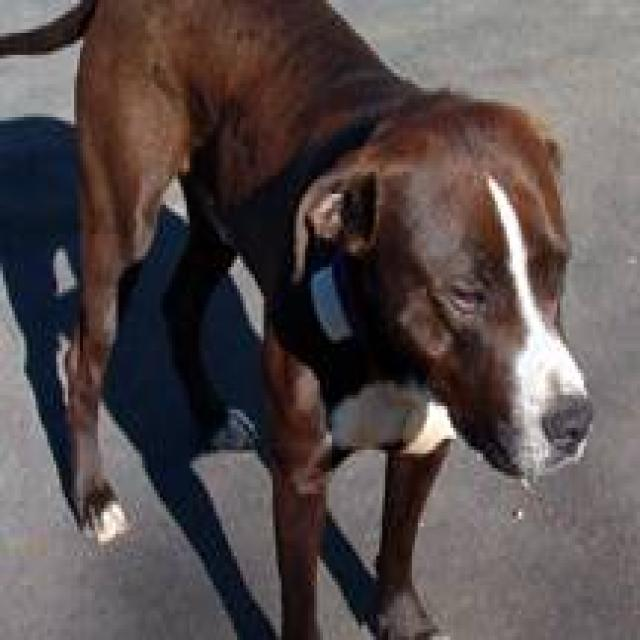dog: (0, 0, 592, 636)
